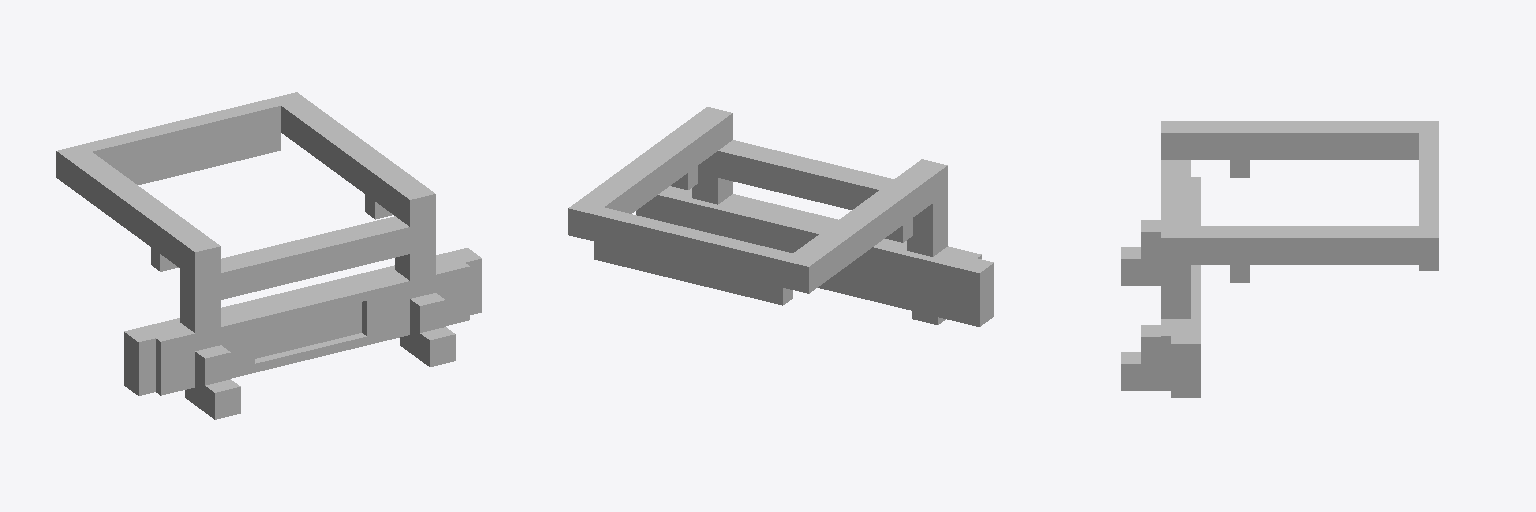
Rendered from kenguru.obj.
3 views of the same model, side by side, from view 1: azimuth 30°, elevation 25°; view 2: azimuth 150°, elevation 25°; view 3: azimuth 270°, elevation 25° (orthographic).
Parts seen in each view (by area): view 1: object 1; view 2: object 1; view 3: object 1.
Part boxes in pixels (x1,y1,x2,y2): object 1: (56, 92, 481, 419); object 1: (568, 107, 993, 326); object 1: (1121, 121, 1438, 397).
Bounding box in the file's own units: 4 × 1.7 × 3.2.